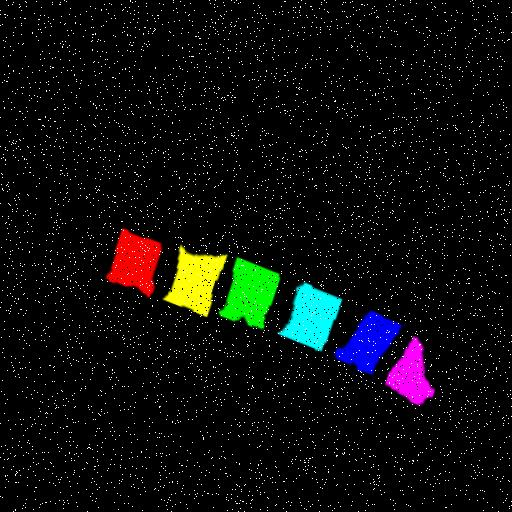L1: (105, 227, 162, 293)
L2: (162, 243, 226, 314)
L3: (219, 254, 279, 326)
L4: (277, 279, 340, 347)
L5: (333, 306, 399, 369)
S1: (384, 331, 433, 400)
